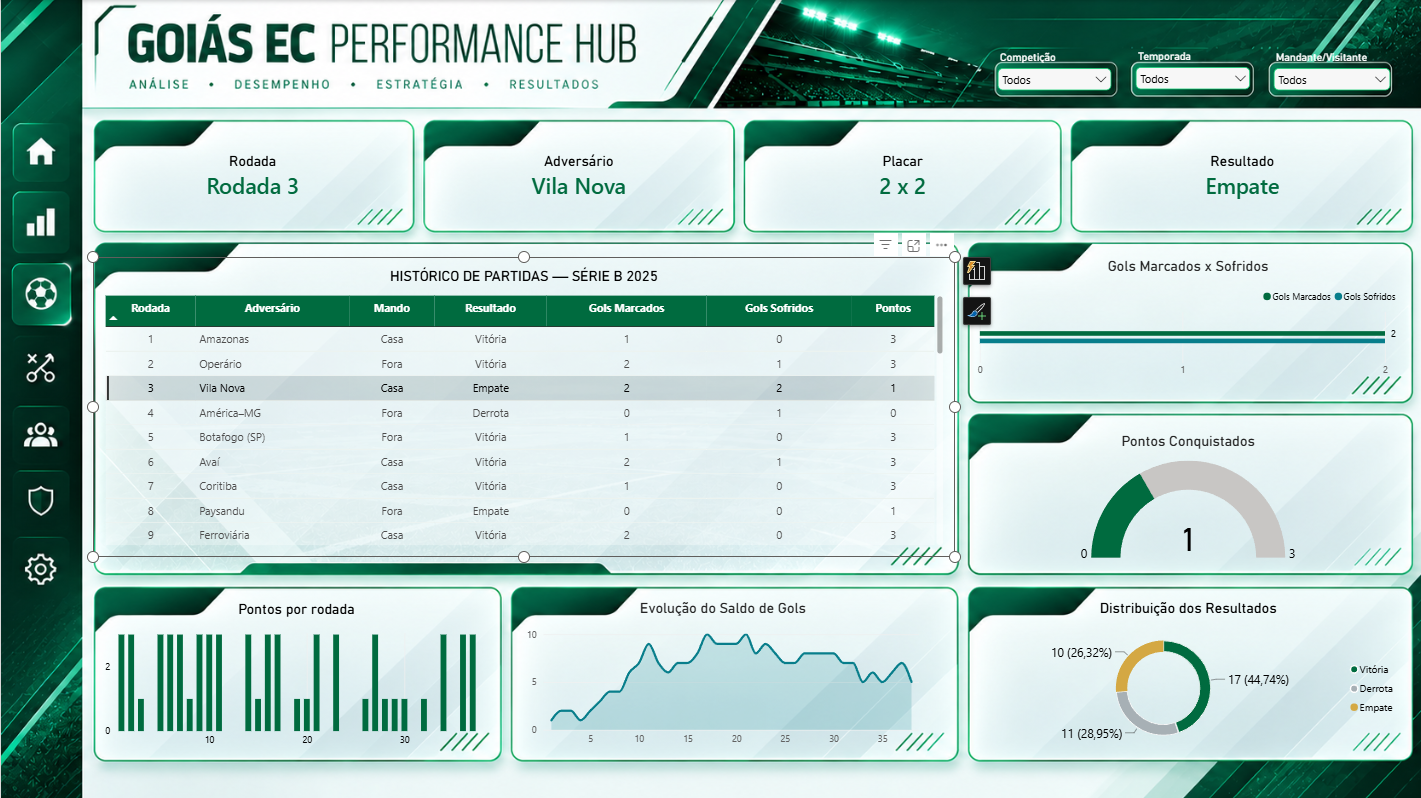

What the dashboard file says about the page in this screenshot:
{"tool":"powerbi","page":{"name":"Análise de Partidas","canvas":[1920,1080],"ordinal":2},"visuals":[{"type":"tableEx","title":"HISTÓRICO DE PARTIDAS — SÉRIE B 2025","fields":{"Values":["fato_partida_clube.rodada","fato_partida_clube.adversario","fato_partida_clube.mando","fato_partida_clube.resultado","fato_partida_clube.gols_marcados","fato_partida_clube.gols_sofridos","fato_partida_clube.pontos"]},"box":[123.9,346.1,1160.8,404],"z":0},{"type":"cardVisual","fields":{"Data":["Medidas.Rodada Selecionada"]},"box":[123.9,161.6,430.9,152.2],"z":1000},{"type":"cardVisual","fields":{"Data":["Medidas.Adversário Selecionado"]},"box":[571,161.6,414.8,152.2],"z":2000},{"type":"cardVisual","fields":{"Data":["Medidas.Placar Selecionado"]},"box":[1003.2,161.6,422.8,152.2],"z":3000},{"type":"cardVisual","fields":{"Data":["Medidas.Resultado Selecionado"]},"box":[1445.5,161.8,453.7,152.2],"z":4000},{"type":"clusteredBarChart","title":"Gols Marcados x Sofridos ","fields":{"Y":["Medidas.Gols Marcados Dinâmico","Medidas.Gols Sofridos Dinâmico"]},"box":[1298.2,332.6,600.6,195.3],"z":5000},{"type":"gauge","fields":{"Y":["Medidas.Pontos Partida"]},"box":[1298,567.9,601.3,203.6],"z":6000},{"type":"clusteredColumnChart","title":"Pontos por rodada","fields":{"Category":["fato_partida_clube.rodada"],"Y":["Medidas.Pontos Conquistados"]},"box":[124.5,794,547.8,231],"z":7000},{"type":"lineChart","title":"Evolução do Saldo de Gols","fields":{"Category":["fato_partida_clube.rodada"],"Y":["Medidas.Saldo de Gols Acumulado"]},"box":[692,793.8,559.9,230.7],"z":8000},{"type":"donutChart","title":"Distribuição dos Resultados","fields":{"Category":["fato_partida_clube.resultado"],"Y":["Medidas.Total Jogos"]},"box":[1298,793.8,601.3,230.7],"z":9000},{"type":"slicer","fields":{"Values":["fato_partida_clube.temporada"]},"box":[1523,67.3,164.3,68.7],"z":10000},{"type":"slicer","fields":{"Values":["fato_partida_clube.mando"]},"box":[1708.9,68.7,167,70],"z":11000},{"type":"slicer","fields":{"Values":["fato_partida_clube.Competicao Exibicao"]},"box":[1337.5,68.3,162.5,103.3],"z":12000},{"type":"actionButton","title":"BTN_Home","box":[29.6,179.1,51.2,66],"z":13000},{"type":"actionButton","title":"BTN_Performance_Coletiva","box":[25.6,277.4,59.3,55.2],"z":14000},{"type":"actionButton","box":[28.9,475.2,59.3,48.5],"z":15000},{"type":"actionButton","title":"BTN_Home","box":[32.3,556.2,51.2,66],"z":15001}]}

Visuals, with their boxes on the page's 1920x1080 design canvas (x1, y1, x2, y2). These are canvas units, not pixel positions in the 1421x798 screenshot, which may show the page scaled, cropped or inside an application window:
"HISTÓRICO DE PARTIDAS — SÉRIE B 2025" tableEx: 124/346/1285/750
cardVisual - Medidas.Rodada Selecionada: 124/162/555/314
cardVisual - Medidas.Adversário Selecionado: 571/162/986/314
cardVisual - Medidas.Placar Selecionado: 1003/162/1426/314
cardVisual - Medidas.Resultado Selecionado: 1446/162/1899/314
"Gols Marcados x Sofridos " clusteredBarChart: 1298/333/1899/528
gauge - Medidas.Pontos Partida: 1298/568/1899/772
"Pontos por rodada" clusteredColumnChart: 124/794/672/1025
"Evolução do Saldo de Gols" lineChart: 692/794/1252/1024
"Distribuição dos Resultados" donutChart: 1298/794/1899/1024
slicer - fato_partida_clube.temporada: 1523/67/1687/136
slicer - fato_partida_clube.mando: 1709/69/1876/139
slicer - fato_partida_clube.Competicao Exibicao: 1338/68/1500/172
"BTN_Home" actionButton: 30/179/81/245
"BTN_Performance_Coletiva" actionButton: 26/277/85/333
actionButton: 29/475/88/524
"BTN_Home" actionButton: 32/556/84/622
